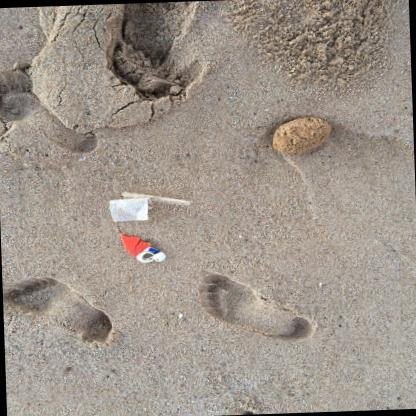Plastic: (110, 196, 149, 221), (121, 191, 190, 204), (121, 233, 152, 256), (137, 246, 166, 262)
